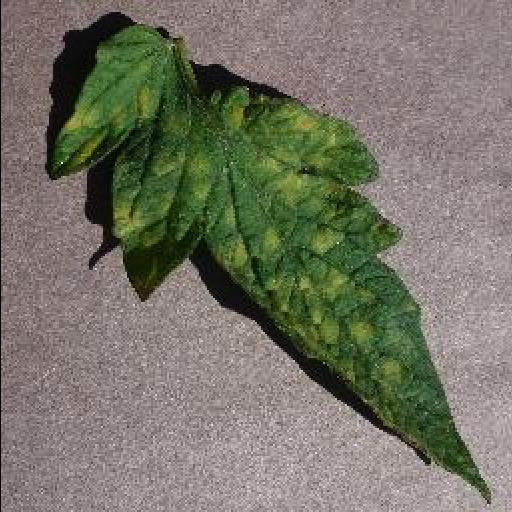disease_tomato: (42, 28, 490, 498)
